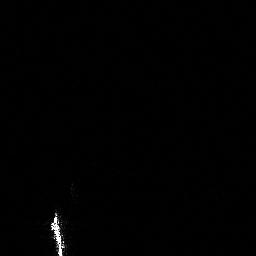ship: (46, 207, 70, 256)
